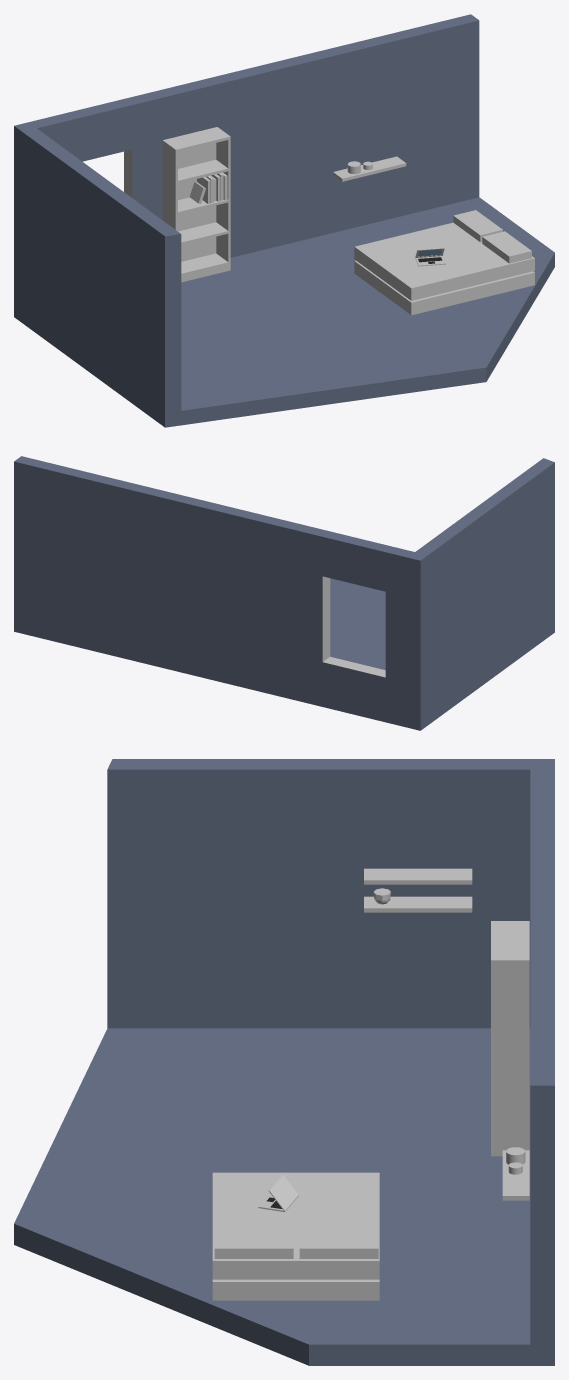
The model's file is JordansRoom_test6.dae.
3 views of the same model, one above another, from view 1: azimuth 30°, elevation 25°; view 2: azimuth 150°, elevation 25°; view 3: azimuth 270°, elevation 25° (orthographic). The views are drawn at different scales.
Visible parts, largest first — view 1: Room; view 2: Room; view 3: Room.
Boxes of the visible parts, x1,y1,x2,y2 form: Room: (14,14,554,427); Room: (14,456,554,730); Room: (14,759,554,1365).
Size of the model in its own units: 10 by 4 by 7.
